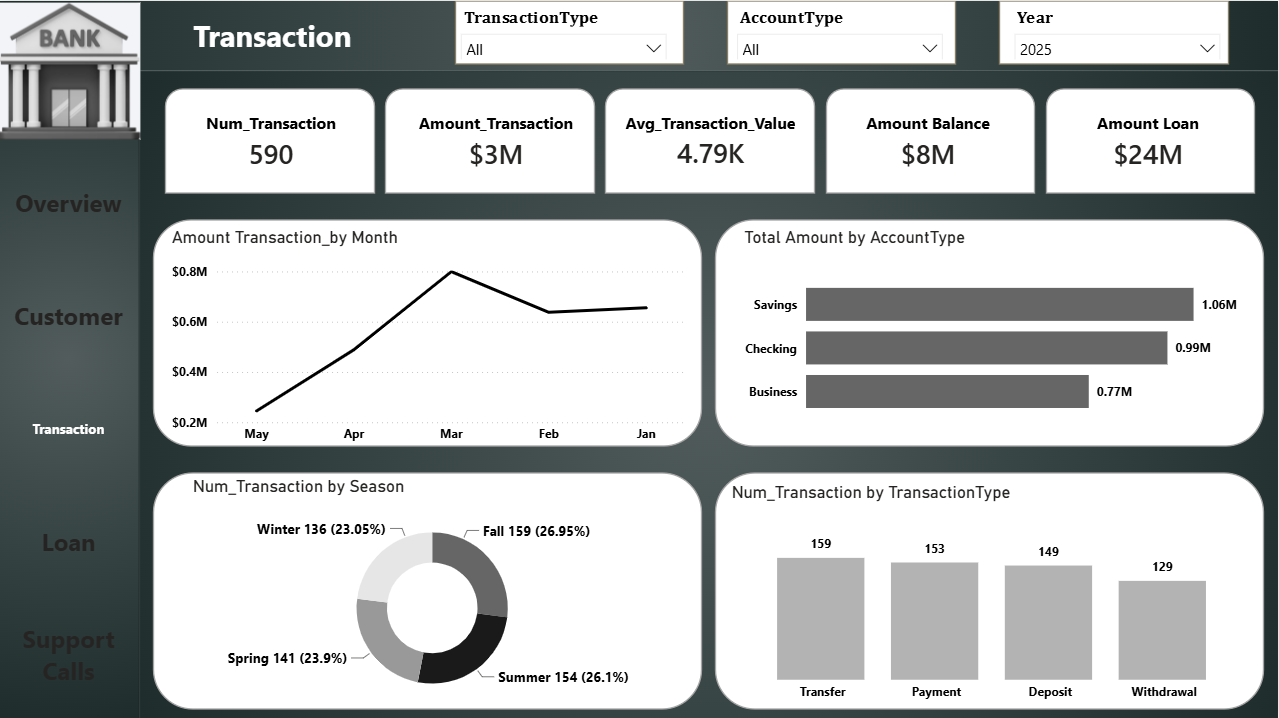

The page's visual inventory and layout, read from the dashboard file:
{"tool":"powerbi","page":{"name":"Transaction","canvas":[1280,720],"ordinal":2},"visuals":[{"type":"cardVisual","fields":{"Data":["Calculation_Overview.Num_Transaction"]},"box":[175,97.5,196.2,85],"z":0},{"type":"cardVisual","fields":{"Data":["Calculation_Overview.Amount_Transaction"]},"box":[390,97.5,216.2,85],"z":1000},{"type":"cardVisual","fields":{"Data":["Calculation_Overview.Balance"]},"box":[837.5,97.5,185,85],"z":2000},{"type":"cardVisual","fields":{"Data":["Calculation_Overview.Avg_Transaction_Value"]},"box":[587.5,90,250,98.8],"z":3000},{"type":"cardVisual","fields":{"Data":["Calculation_Overview.loan_Amount"]},"box":[1057.5,97.5,185,85],"z":4000},{"type":"lineChart","title":"Amount Transaction_by Month","fields":{"Y":["Calculation_Overview.Amount_Transaction"],"Category":["Calender.Month_Name"]},"box":[168.8,226.2,523.8,225],"z":5000},{"type":"donutChart","fields":{"Category":["Transactions.Season"],"Y":["Calculation_Overview.Num_Transaction"]},"box":[190,475,488.8,233.8],"z":6000},{"type":"columnChart","title":"Num_Transaction by TransactionType","fields":{"Category":["Transactions.TransactionType"],"Y":["Calculation_Overview.Num_Transaction"]},"box":[728.8,481.2,533.8,227.5],"z":7000},{"type":"barChart","title":"Total Amount by AccountType","fields":{"Y":["Sum(Transactions.Amount)"],"Category":["Accounts.AccountType"]},"box":[741.2,226.2,510,205],"z":8000},{"type":"slicer","fields":{"Values":["Calender.Year"]},"box":[1006.2,0,226.2,58.8],"z":9000},{"type":"slicer","fields":{"Values":["Accounts.AccountType"]},"box":[728.8,0,226.2,58.8],"z":10000},{"type":"slicer","fields":{"Values":["Transactions.TransactionType"]},"box":[452.5,0,226.2,58.8],"z":11000},{"type":"pageNavigator","box":[0,150,141.2,558.8],"z":12000},{"type":"image","box":[0,0,142.5,140],"z":12001},{"type":"shape","box":[162.5,0,223.8,67.5],"z":12002}]}

Visuals, with their boxes in screenshot pixels (x1, y1, x2, y2), scaled from the page's 1280x720 canvas onto the 1279x718 screenshot:
cardVisual - Calculation_Overview.Num_Transaction: [175, 97, 371, 182]
cardVisual - Calculation_Overview.Amount_Transaction: [390, 97, 606, 182]
cardVisual - Calculation_Overview.Balance: [837, 97, 1022, 182]
cardVisual - Calculation_Overview.Avg_Transaction_Value: [587, 90, 837, 188]
cardVisual - Calculation_Overview.loan_Amount: [1057, 97, 1242, 182]
"Amount Transaction_by Month" lineChart: [169, 226, 692, 450]
donutChart - Transactions.Season x Calculation_Overview.Num_Transaction: [190, 474, 678, 707]
"Num_Transaction by TransactionType" columnChart: [728, 480, 1262, 707]
"Total Amount by AccountType" barChart: [741, 226, 1250, 430]
slicer - Calender.Year: [1005, 0, 1231, 59]
slicer - Accounts.AccountType: [728, 0, 954, 59]
slicer - Transactions.TransactionType: [452, 0, 678, 59]
pageNavigator: [0, 150, 141, 707]
image: [0, 0, 142, 140]
shape: [162, 0, 386, 67]
